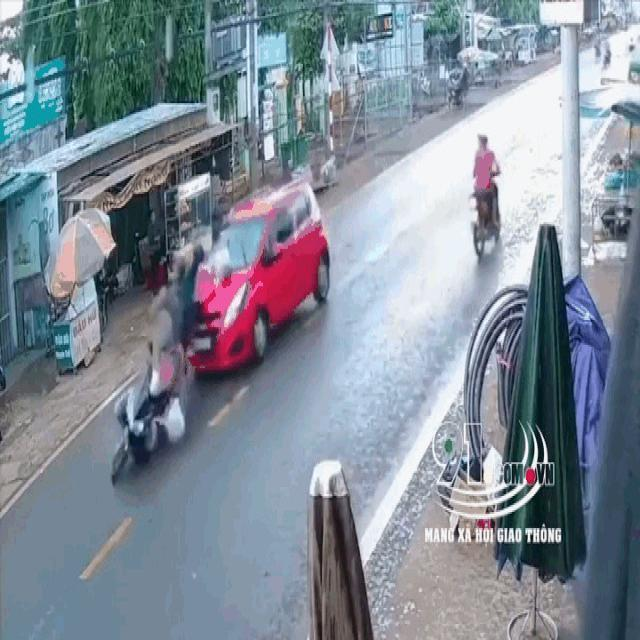multiple_accident: (107, 161, 350, 490)
